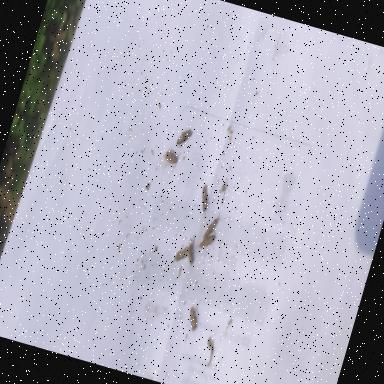pbw: (156, 146, 182, 182), (193, 182, 215, 223), (202, 210, 225, 243), (181, 233, 201, 267), (184, 302, 202, 330), (175, 125, 194, 150), (195, 231, 214, 250), (174, 245, 189, 263)
